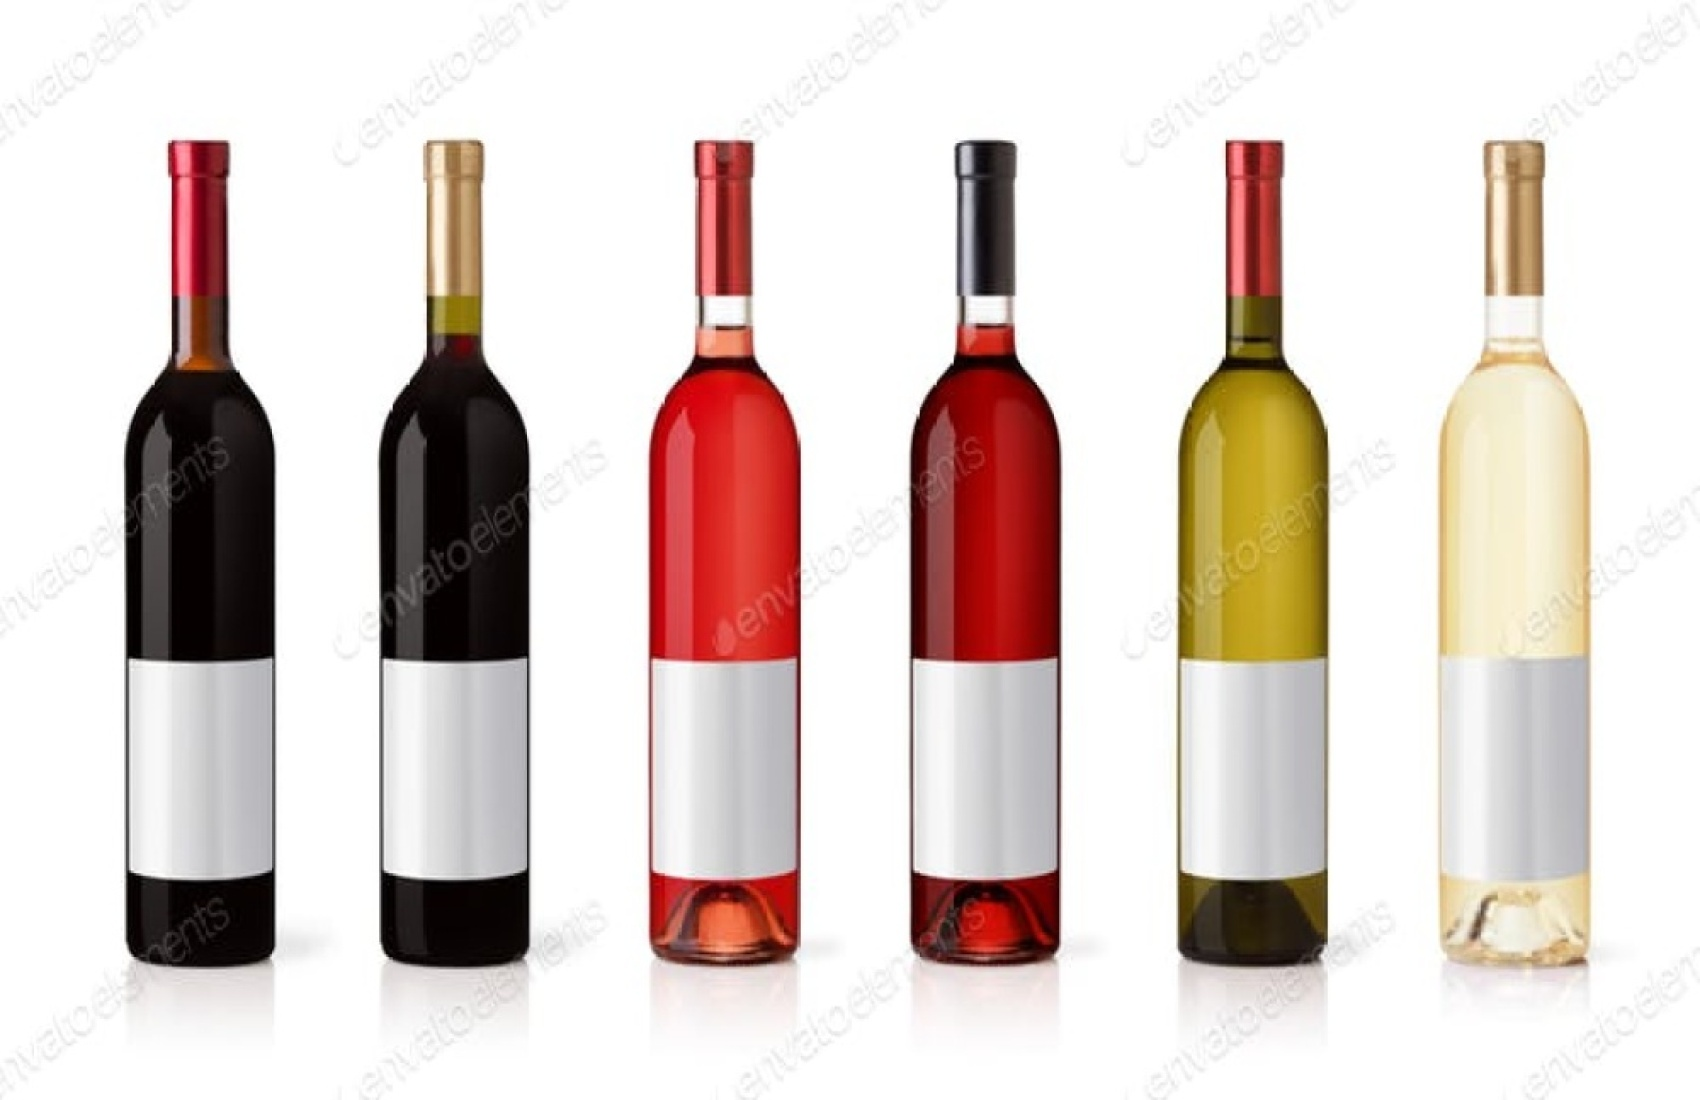wine: (118, 136, 287, 967), (900, 152, 1069, 984), (1161, 135, 1330, 967), (1432, 135, 1601, 967), (641, 137, 809, 969)
